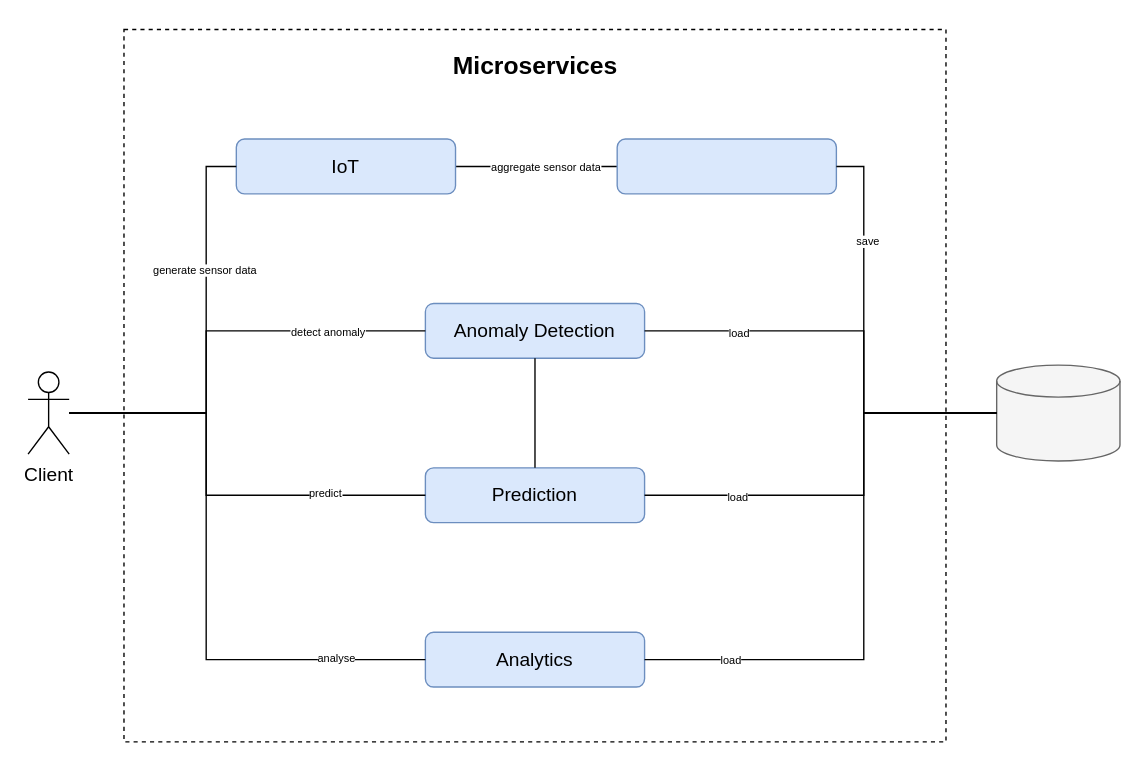
Image size: 1144x766. Some labels were removed from this diagram. Each missing label, with the centre of its shape:
"Fog" belongs at (726,166).
"PostgreSQL" belongs at (1057,412).
